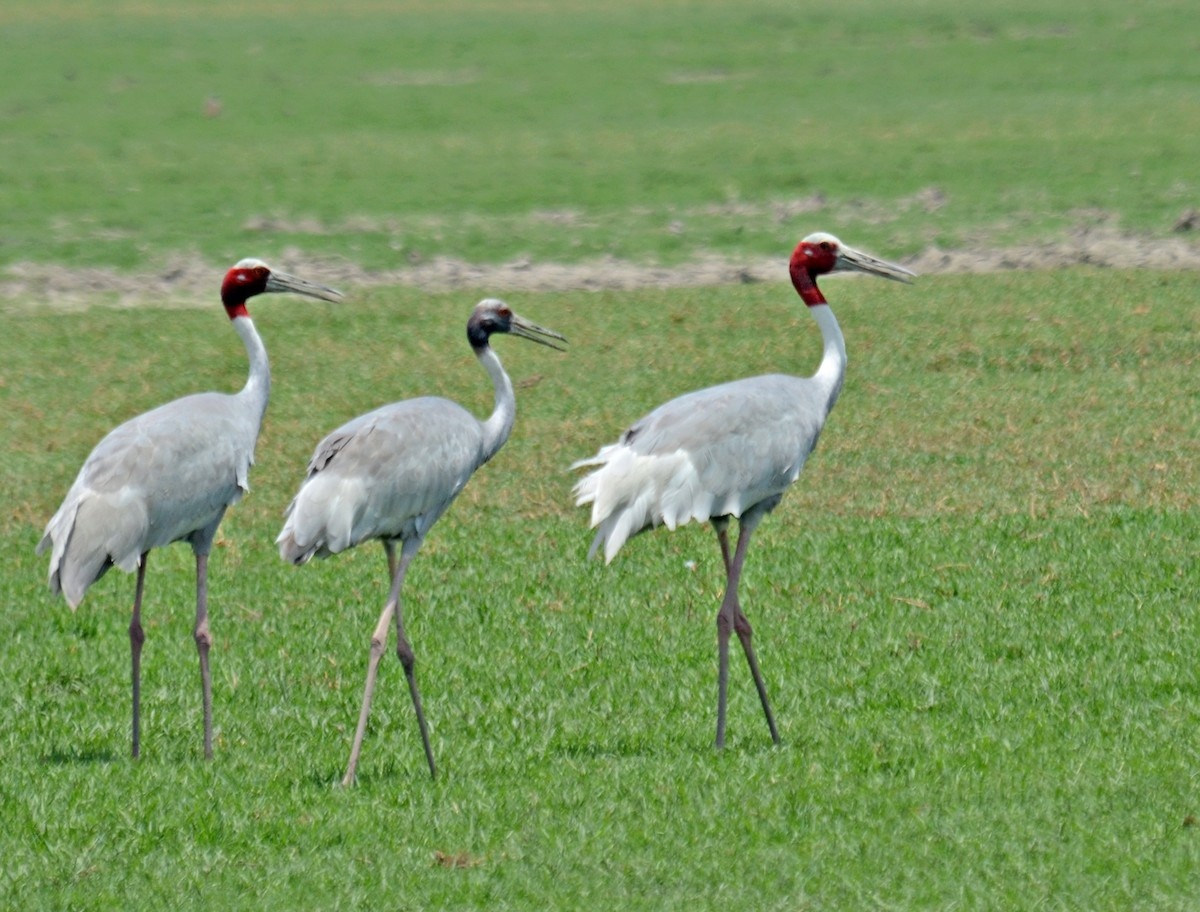crane: (586, 215, 925, 763), (46, 250, 346, 784), (279, 280, 582, 800)
